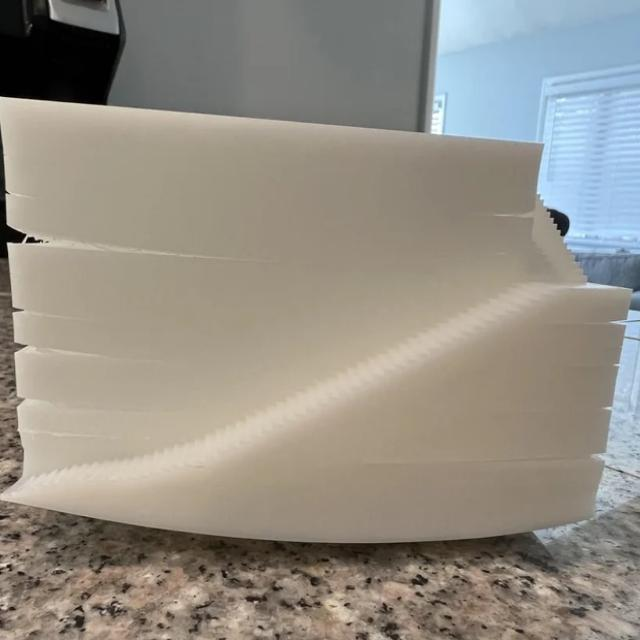Warping: (2, 486, 205, 542), (3, 220, 134, 262), (488, 505, 604, 547), (10, 334, 94, 365), (560, 438, 608, 466), (14, 388, 81, 407), (585, 307, 628, 333)
